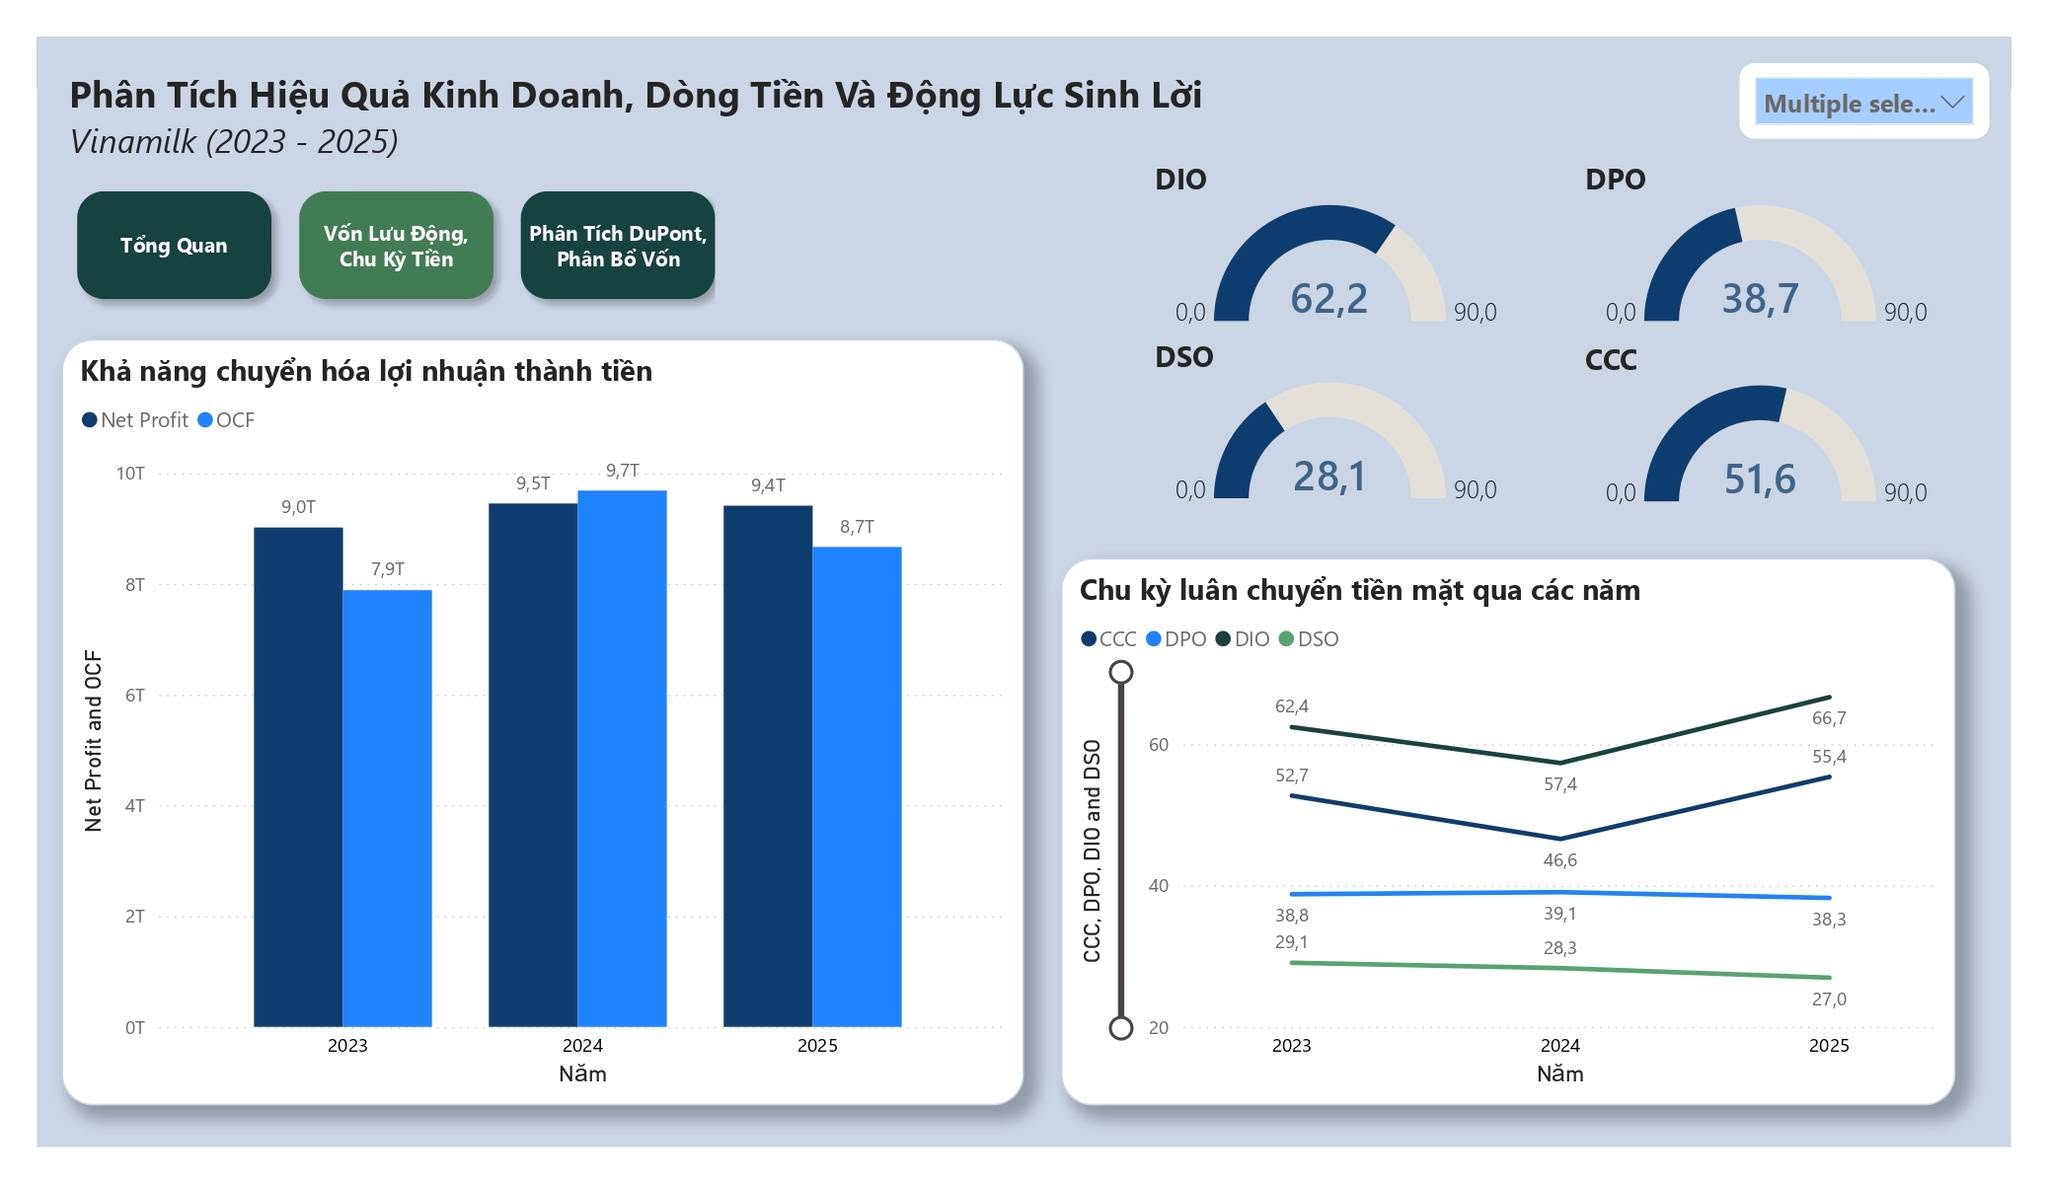

Layout of this report page (visuals, bound fields, positions):
{"tool":"powerbi","page":{"name":"Vốn Lưu Động, Chu Kỳ Tiền","canvas":[1280,720],"ordinal":1},"visuals":[{"type":"shape","box":[1104.3,16.7,161.5,49],"z":0,"group":"g1"},{"type":"clusteredColumnChart","title":"Khả năng chuyển hóa lợi nhuận thành tiền","fields":{"Y":["Measures (2).Net Profit","Measures (2).OCF"],"Category":["FinancialVinamilkData.Năm"]},"box":[16.2,196.2,623.8,496.2],"z":0},{"type":"slicer","fields":{"Values":["FinancialVinamilkData.Năm"]},"box":[1104.4,15.7,161.5,53.8],"z":1000,"group":"g1"},{"type":"pageNavigator","box":[17.1,91.4,422.9,88.6],"z":1000},{"type":"gauge","fields":{"Y":["Measures (2).DIO"]},"box":[720,78.8,245,115],"z":2000},{"type":"gauge","fields":{"Y":["Measures (2).DPO"]},"box":[998.8,78.8,245,115],"z":3000},{"type":"gauge","fields":{"Y":["Measures (2).DSO"]},"box":[720,193.8,245,115],"z":4000},{"type":"gauge","fields":{"Y":["Measures (2).CCC"]},"box":[998.8,196.2,245,115],"z":5000},{"type":"group","id":"g1","title":"Group 1","box":[1104.3,15.7,161.4,52.9],"z":6000},{"type":"lineChart","title":"Chu kỳ luân chuyển tiền mặt qua các năm","fields":{"Category":["FinancialVinamilkData.Năm"],"Y":["Measures (2).CCC","Measures (2).DPO","Measures (2).DIO","Measures (2).DSO"]},"box":[663.8,337.5,580,355],"z":7000},{"type":"textbox","box":[16.2,15,840,85],"z":8000}]}

Visuals, with their boxes in screenshot pixels (x1, y1, x2, y2), scaled from the page's 1280x720 canvas onto the 2048x1184 screenshot:
shape: x1=1767, y1=27, x2=2025, y2=108
"Khả năng chuyển hóa lợi nhuận thành tiền" clusteredColumnChart: x1=26, y1=323, x2=1024, y2=1139
slicer - FinancialVinamilkData.Năm: x1=1767, y1=26, x2=2025, y2=114
pageNavigator: x1=27, y1=150, x2=704, y2=296
gauge - Measures (2).DIO: x1=1152, y1=130, x2=1544, y2=319
gauge - Measures (2).DPO: x1=1598, y1=130, x2=1990, y2=319
gauge - Measures (2).DSO: x1=1152, y1=319, x2=1544, y2=508
gauge - Measures (2).CCC: x1=1598, y1=323, x2=1990, y2=512
"Group 1" group: x1=1767, y1=26, x2=2025, y2=113
"Chu kỳ luân chuyển tiền mặt qua các năm" lineChart: x1=1062, y1=555, x2=1990, y2=1139
textbox: x1=26, y1=25, x2=1370, y2=164
